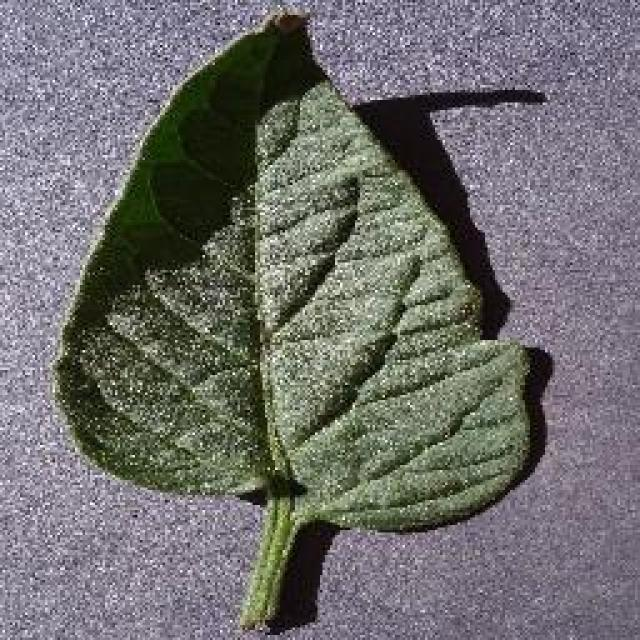Healthy: (38, 0, 552, 638)
